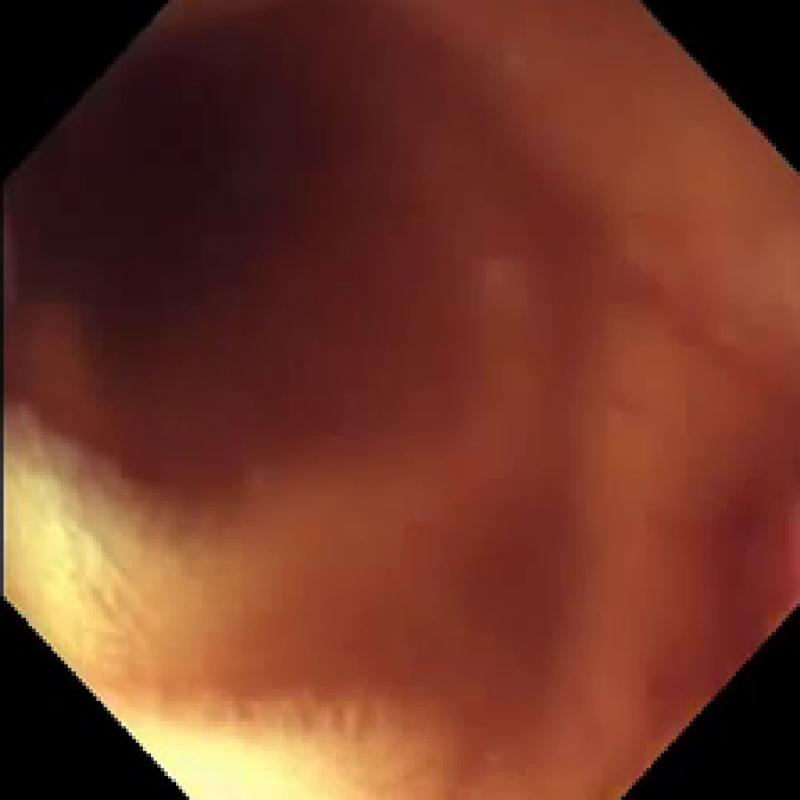bleeding: (0, 0, 800, 729)
